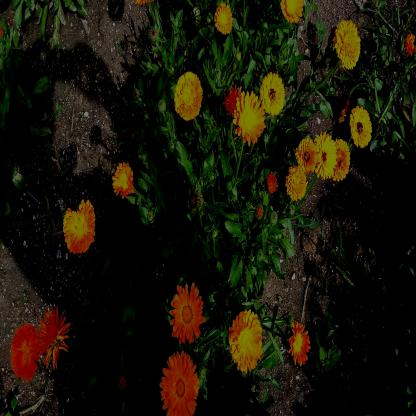marigold: (159, 349, 199, 416), (168, 282, 206, 346), (228, 309, 263, 372), (37, 308, 71, 367), (233, 88, 266, 146), (62, 198, 96, 254), (10, 322, 40, 381), (173, 70, 204, 121), (333, 18, 361, 71), (312, 131, 337, 179), (260, 71, 285, 115), (349, 105, 372, 150), (289, 319, 311, 366), (329, 136, 350, 182), (112, 160, 134, 199), (295, 136, 318, 172), (284, 164, 306, 201), (214, 3, 233, 35)
